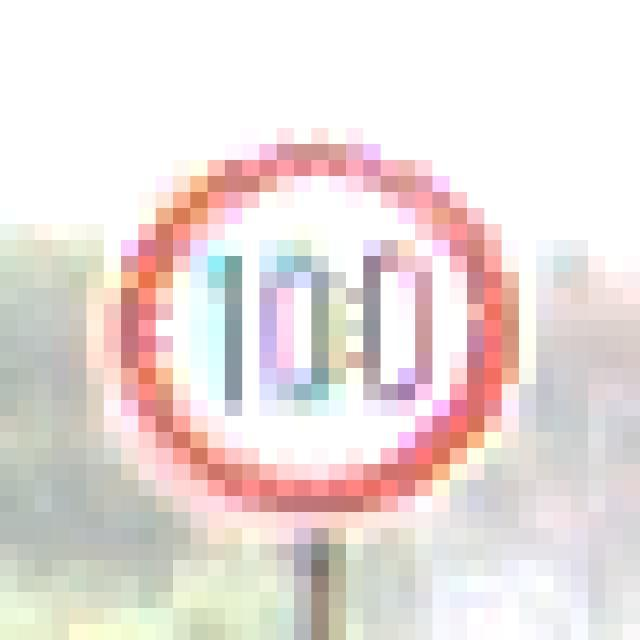Ograniczenie predkosci do 100: (112, 140, 514, 526)
